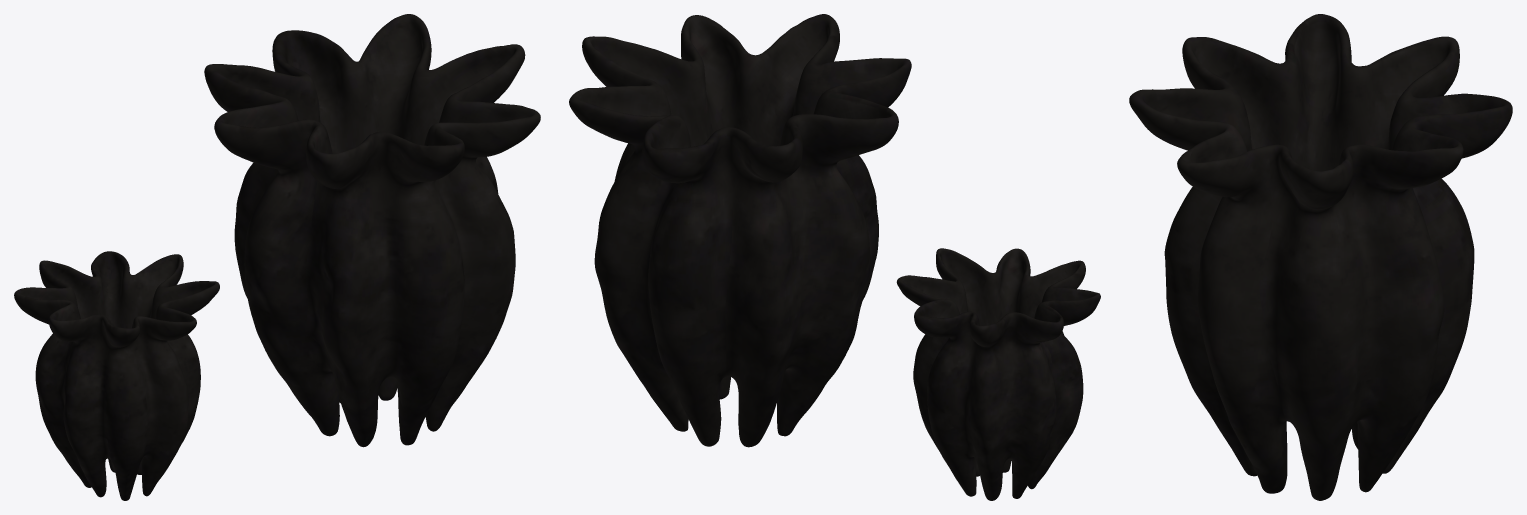
The model's file is dimensiva-lotus-vase-by-101-copenhagen.optimized.glb.
The picture shows the model from 3 angles, left to right: view 1: azimuth 30°, elevation 25°; view 2: azimuth 150°, elevation 25°; view 3: azimuth 270°, elevation 25°; orthographic projection. The views are drawn at different scales.
Visible parts, largest first — view 1: Lotus Vase Big; view 2: Lotus Vase Big; view 3: Lotus Vase Big.
Part boxes in pixels (x1,y1,x2,y2): Lotus Vase Big: (14, 14, 540, 500); Lotus Vase Big: (569, 14, 1100, 500); Lotus Vase Big: (1129, 14, 1512, 500).
Size of the model in its own units: 0.8967 by 0.6001 by 0.549.
Materials: 1 (1 with a texture image).
